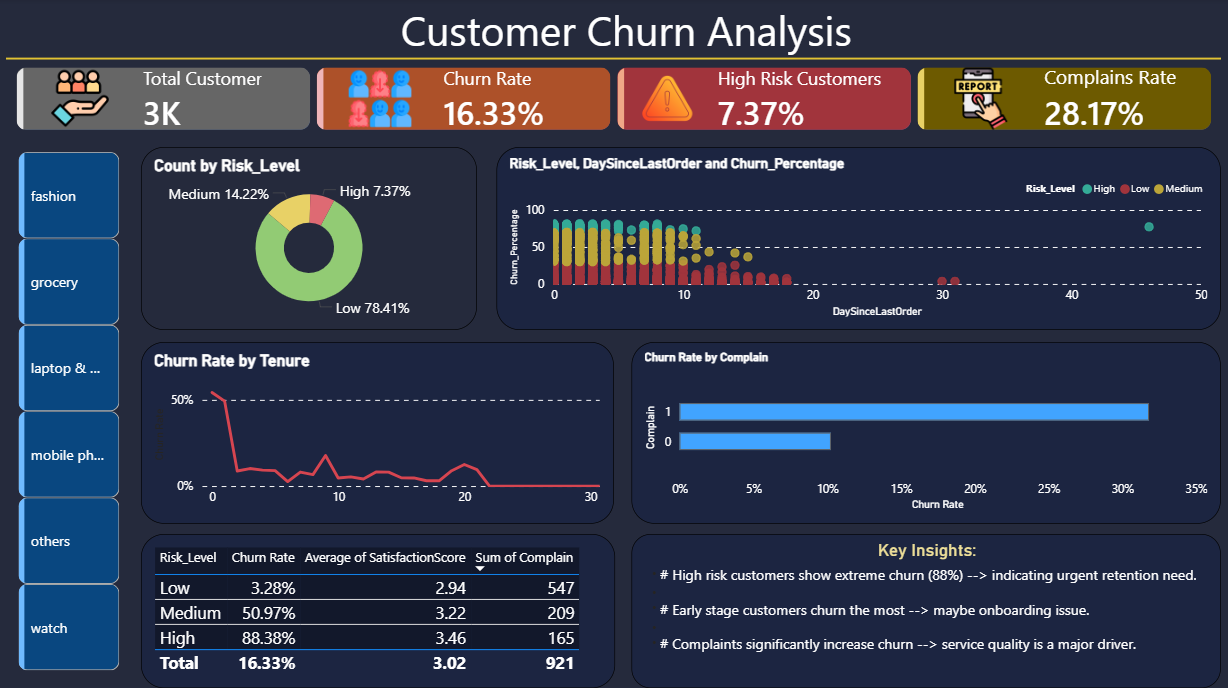

The page's visual inventory and layout, read from the dashboard file:
{"tool":"powerbi","page":{"name":"Page 1","canvas":[1280,720],"ordinal":0},"visuals":[{"type":"textbox","box":[412.6,0,490.8,81.3],"z":0},{"type":"shape","box":[6.3,56.8,1266.3,15.8],"z":1000},{"type":"cardVisual","fields":{"Data":["churn_data.Total Customer","churn_data.Churn Rate","churn_data.High Risk Customers","churn_data.Complains Rate"]},"box":[0,56.8,1280.5,99.5],"z":3000},{"type":"advancedSlicerVisual","fields":{"Values":["churn_data.PreferedOrderCat"]},"box":[14.1,156.3,115.7,553.3],"z":4000},{"type":"lineChart","fields":{"Category":["churn_data.Tenure"],"Y":["churn_data.Churn Rate"]},"box":[146.9,359.5,492.3,189.1],"z":5000},{"type":"donutChart","fields":{"Category":["churn_data.Risk_Level"],"Y":["churn_data.Count"]},"box":[146.9,156.3,350.1,190.7],"z":6000},{"type":"tableEx","fields":{"Values":["churn_data.Risk_Level","churn_data.Churn Rate","Avg(churn_data.SatisfactionScore)","Sum(churn_data.Complain)"]},"box":[146.9,559.5,493.9,161],"z":7000},{"type":"scatterChart","fields":{"Series":["churn_data.Risk_Level"],"X":["churn_data.DaySinceLastOrder"],"Y":["churn_data.Churn_Percentage"]},"box":[517.3,156.3,754.9,190.7],"z":8000},{"type":"barChart","fields":{"Category":["churn_data.Complain"],"Y":["churn_data.Churn Rate"]},"box":[658,359.5,614.3,189.1],"z":9000},{"type":"textbox","title":"Key Insights:","box":[658,559.5,614.3,161],"z":10000}]}

Visuals, with their boxes in screenshot pixels (x1, y1, x2, y2), scaled from the page's 1280x720 canvas onto the 1228x688 screenshot:
textbox: [left=396, top=0, right=867, bottom=78]
shape: [left=6, top=54, right=1221, bottom=69]
cardVisual - churn_data.Total Customer x churn_data.Churn Rate: [left=0, top=54, right=1227, bottom=149]
advancedSlicerVisual - churn_data.PreferedOrderCat: [left=14, top=149, right=125, bottom=678]
lineChart - churn_data.Tenure x churn_data.Churn Rate: [left=141, top=344, right=613, bottom=524]
donutChart - churn_data.Risk_Level x churn_data.Count: [left=141, top=149, right=477, bottom=332]
tableEx - churn_data.Risk_Level x churn_data.Churn Rate: [left=141, top=535, right=615, bottom=687]
scatterChart - churn_data.Risk_Level x churn_data.DaySinceLastOrder: [left=496, top=149, right=1221, bottom=332]
barChart - churn_data.Complain x churn_data.Churn Rate: [left=631, top=344, right=1221, bottom=524]
"Key Insights:" textbox: [left=631, top=535, right=1221, bottom=687]
